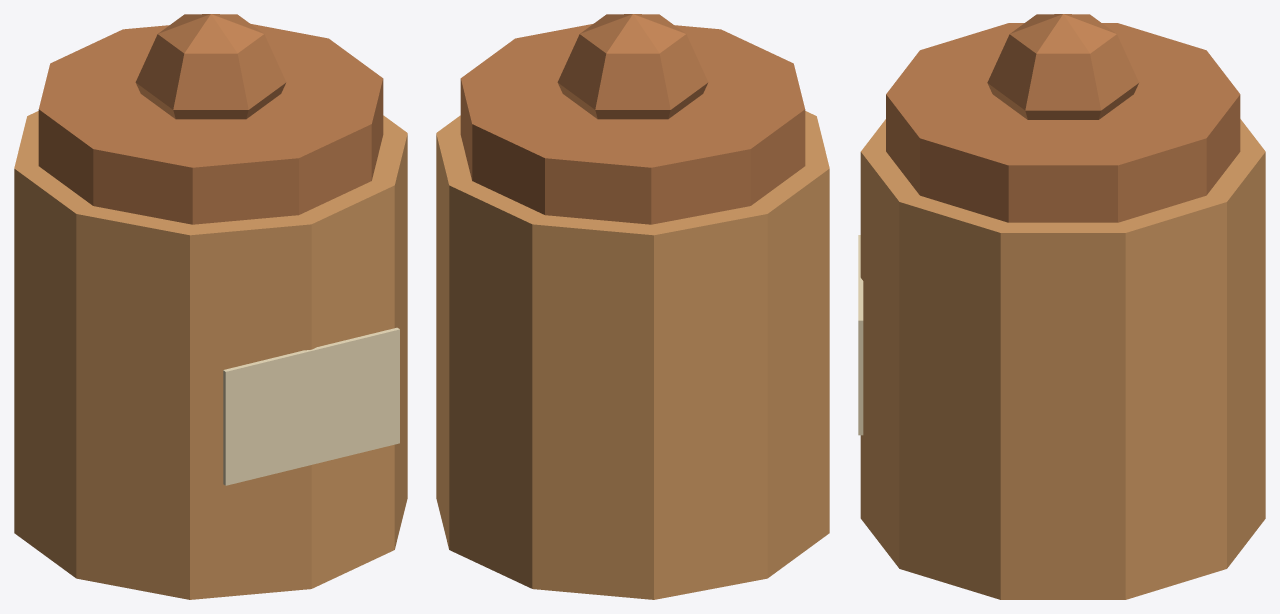
File: cookieJar.fbx
The picture shows the model from 3 angles, left to right: view 1: azimuth 30°, elevation 25°; view 2: azimuth 150°, elevation 25°; view 3: azimuth 270°, elevation 25°; orthographic projection.
Parts seen in each view (by area): view 1: cookieJar; view 2: cookieJar; view 3: cookieJar.
Boxes of the visible parts, x1=… form: cookieJar: x1=14, y1=14, x2=407, y2=599; cookieJar: x1=436, y1=14, x2=829, y2=599; cookieJar: x1=858, y1=14, x2=1265, y2=599.
Bounding box in the file's own units: 0.6087 × 0.88 × 0.644.
